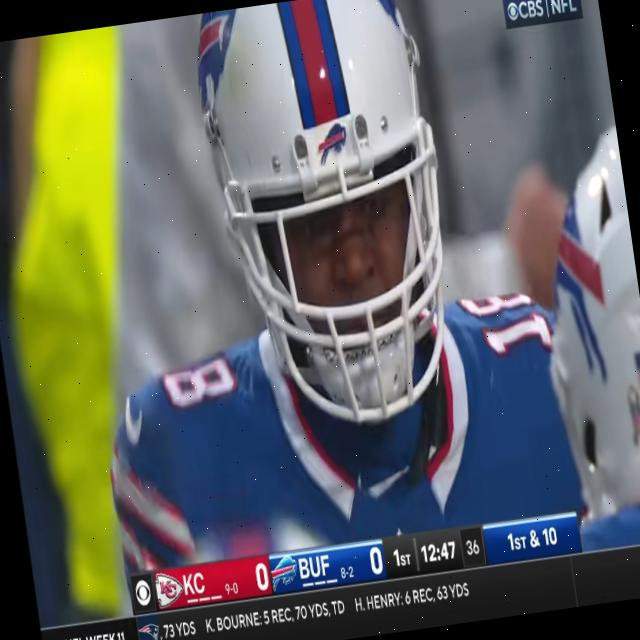Player: (52, 0, 573, 567)
